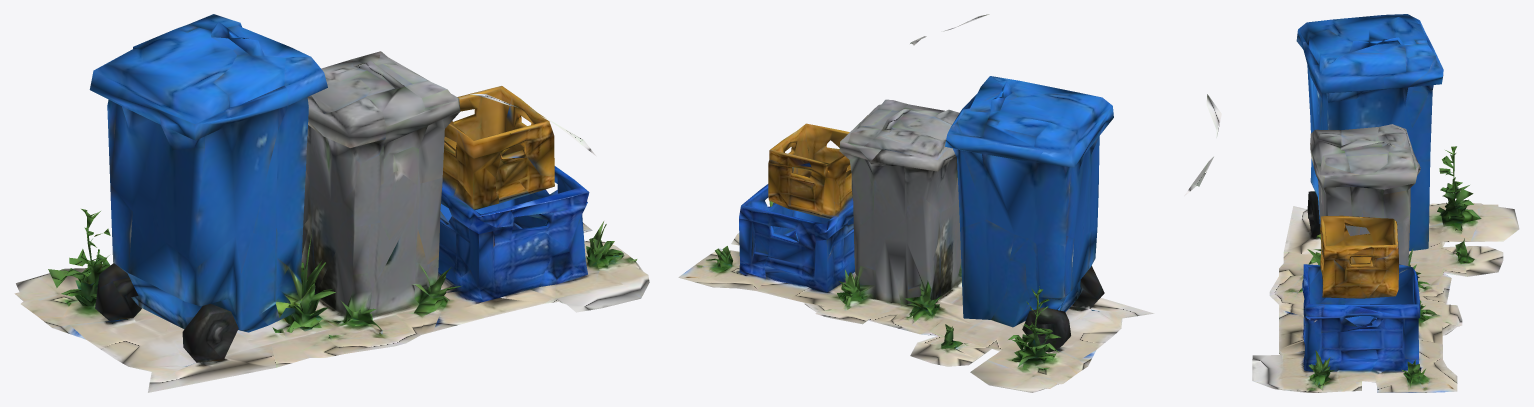
File: env_bins.glb
3 renders of one model, left to right at view 1: azimuth 30°, elevation 25°; view 2: azimuth 150°, elevation 25°; view 3: azimuth 270°, elevation 25°, orthographic. The views are drawn at different scales.
Visible parts, largest first — view 1: tripo_node_3d95703c-95f2-46ca-bded-4786b9911fff; view 2: tripo_node_3d95703c-95f2-46ca-bded-4786b9911fff; view 3: tripo_node_3d95703c-95f2-46ca-bded-4786b9911fff.
Part boxes in pixels (<box>): tripo_node_3d95703c-95f2-46ca-bded-4786b9911fff: <box>14,14,649,392</box>; tripo_node_3d95703c-95f2-46ca-bded-4786b9911fff: <box>678,14,1154,392</box>; tripo_node_3d95703c-95f2-46ca-bded-4786b9911fff: <box>1184,14,1519,392</box>.
Bounding box in the file's own units: 0.9781 × 0.5331 × 0.7334.
Materials: 1 (1 with a texture image).
